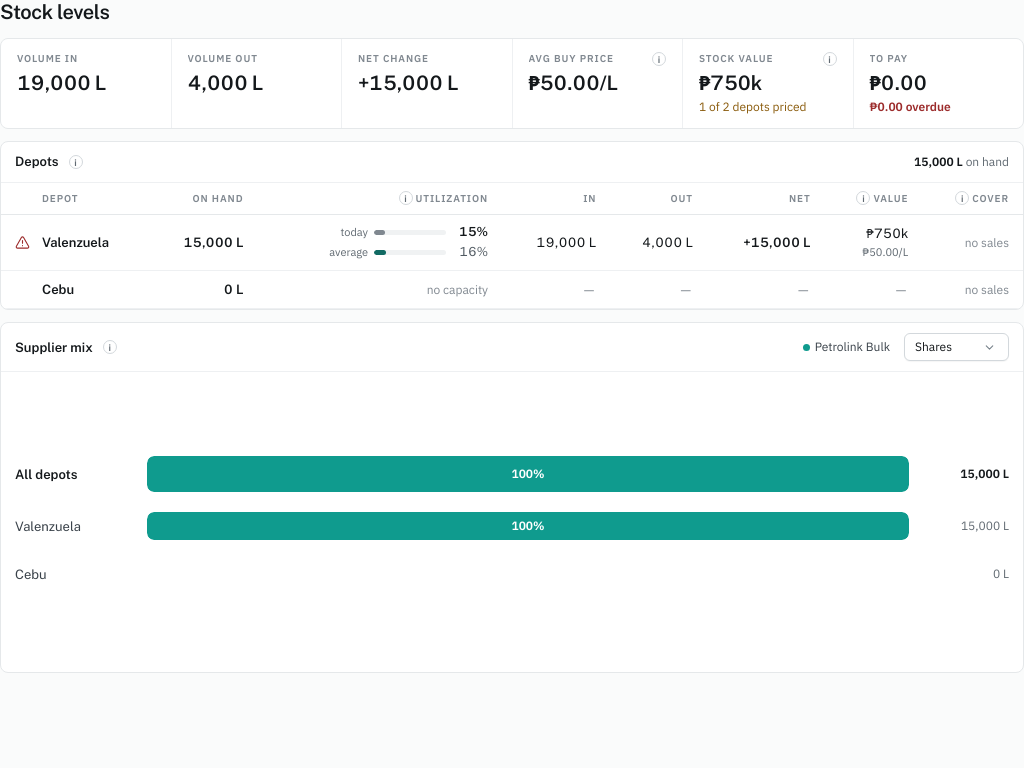
Test: Stock page › opens a depot for its activity, cost and sources
Check: the text "average" is shown, box x1=329 y1=245 x2=368 y2=259
Check: the text "today" is shown, box x1=340 y1=225 x2=368 y2=239
Click the text "Valenzuela".
click(512, 242)  # box x1=1 y1=214 x2=1023 y2=270
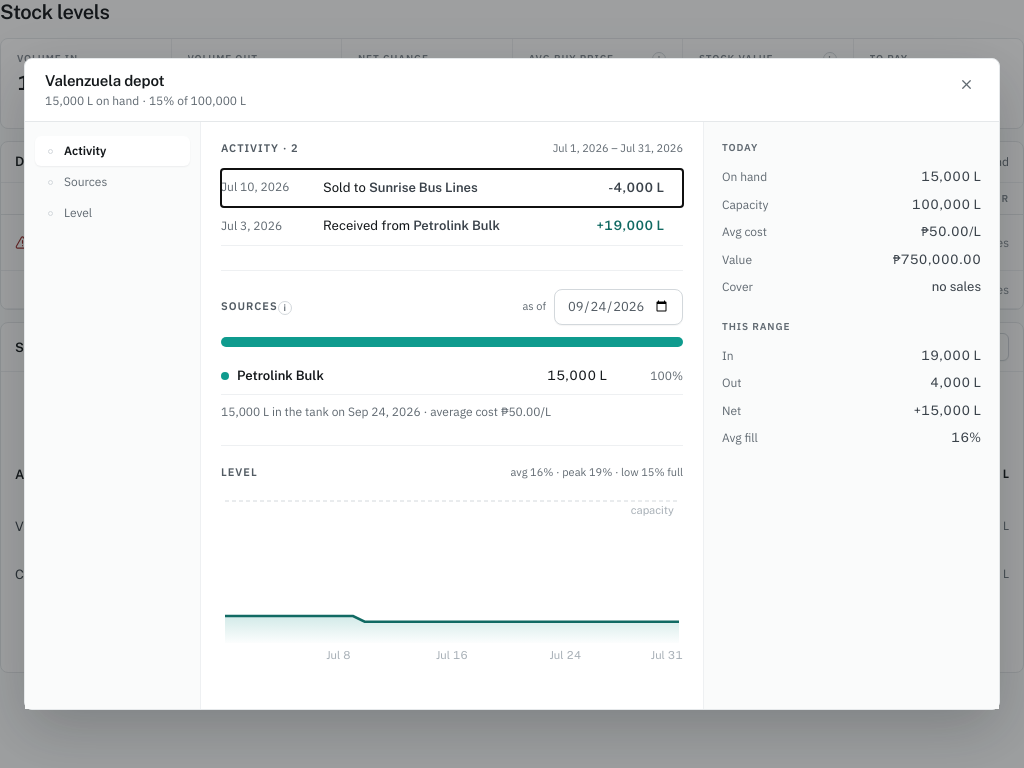
Check: the text "Received from Petrolink Bulk" is shown, box x1=323 y1=218 x2=500 y2=233
Check: the text "Sold to Sunrise Bus Lines" is shown, box x1=323 y1=180 x2=478 y2=195
Check: the text "₱50.00/L" is shown, box x1=921 y1=222 x2=981 y2=242
